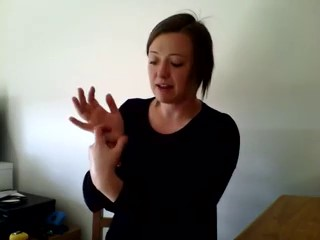R: (63, 83, 132, 198)
